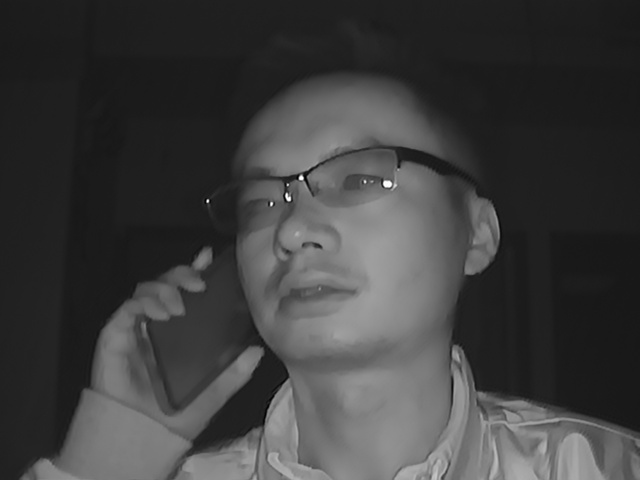hand: (98, 247, 223, 423)
